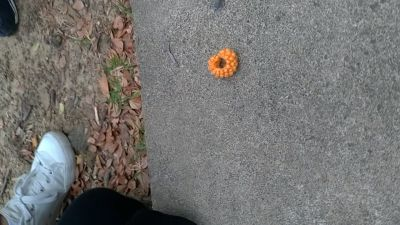eggs: (208, 47, 239, 78)
